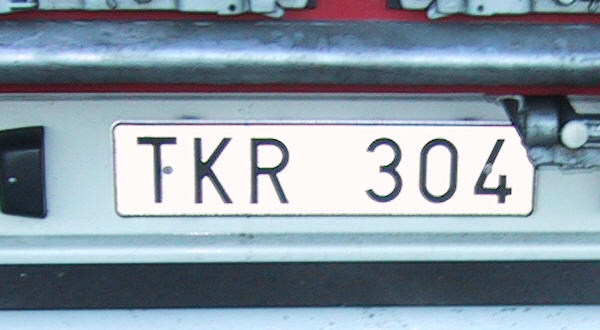license_plate: (111, 121, 538, 219)
